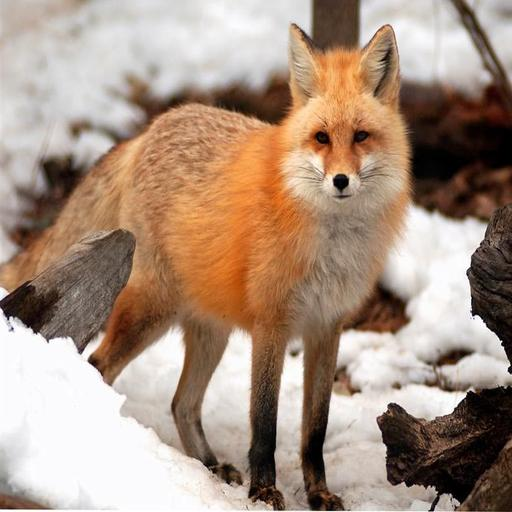Fox: (0, 19, 416, 512)
